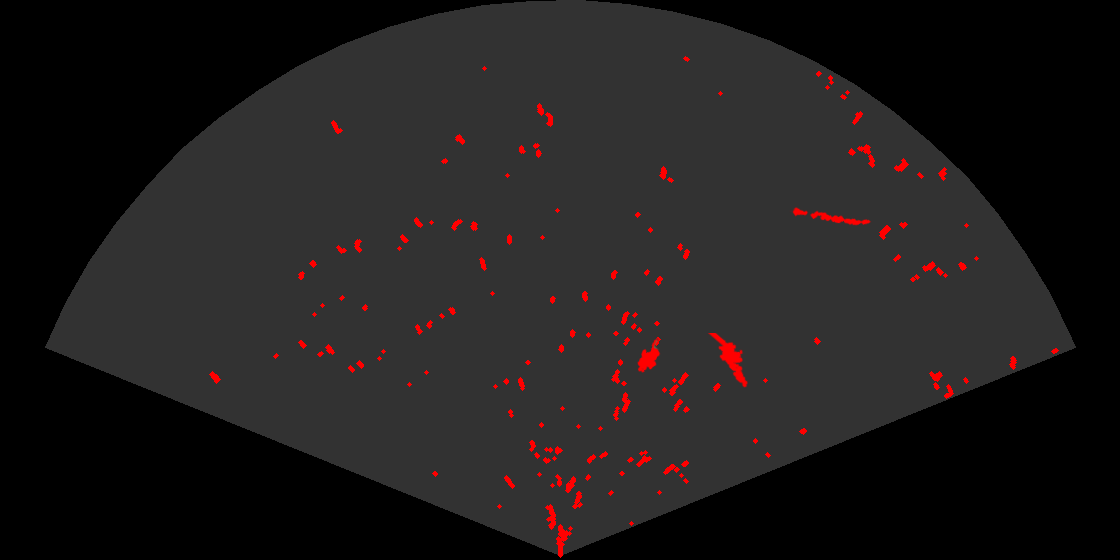AUV: (636, 337, 662, 374)
chain: (789, 206, 872, 227)
frogman: (706, 333, 749, 389)
